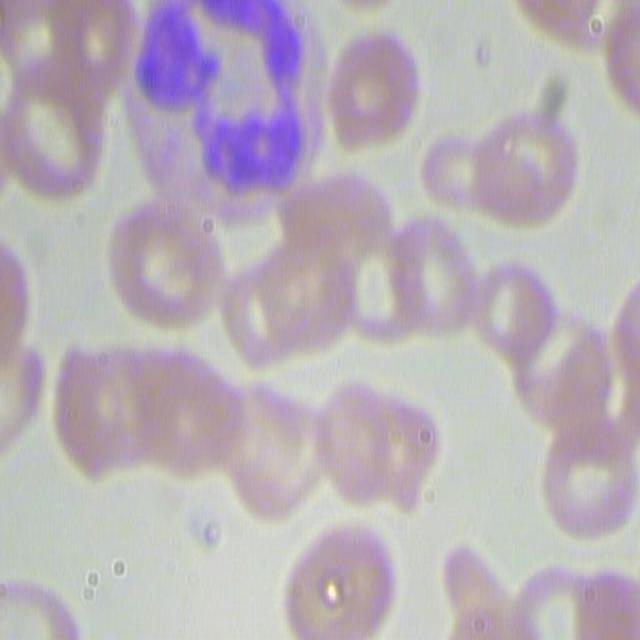RBC: (57, 345, 249, 463), (0, 4, 104, 212), (306, 366, 440, 517), (326, 163, 426, 356), (102, 193, 226, 339), (318, 0, 432, 157), (234, 238, 363, 374), (220, 384, 326, 525), (466, 105, 576, 235), (280, 520, 398, 638), (383, 214, 483, 346), (534, 419, 637, 544), (456, 242, 558, 368), (507, 307, 604, 427), (432, 533, 530, 640), (1, 549, 108, 640), (504, 557, 610, 640), (500, 3, 619, 73), (0, 333, 45, 456), (600, 0, 640, 118)
WBC: (130, 7, 342, 213)
